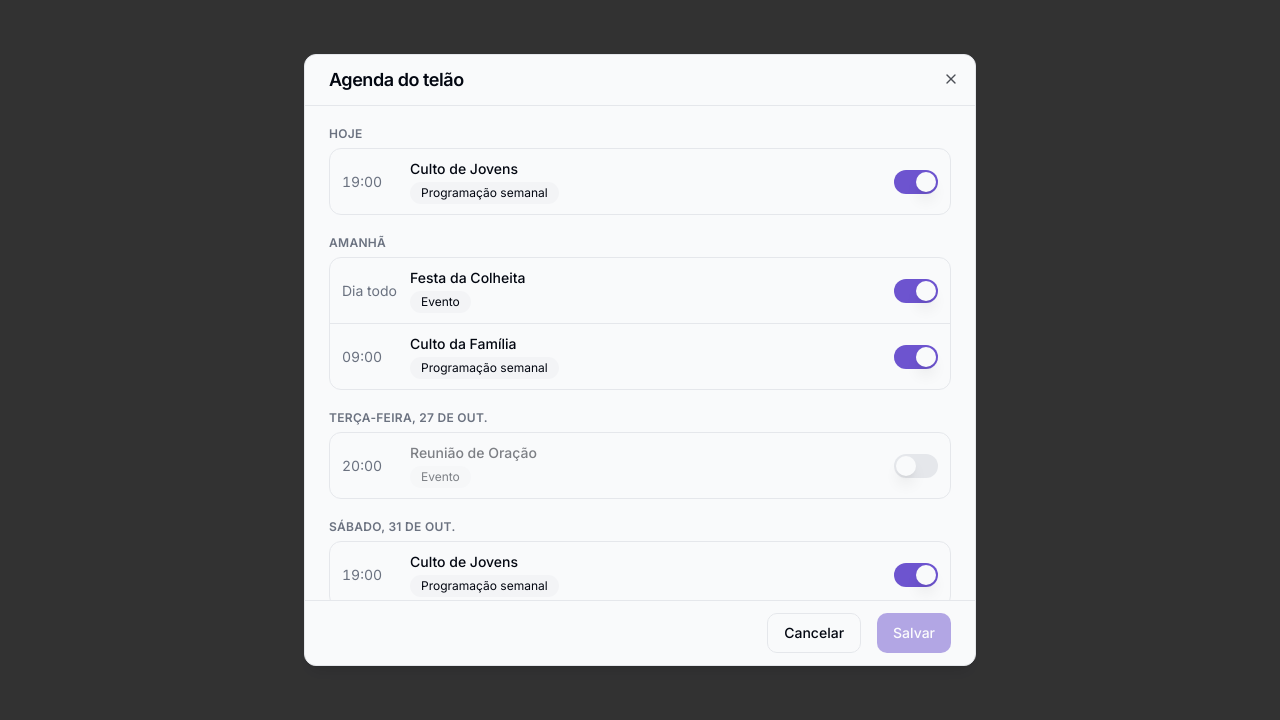
Test: ProjectionAgendaSheet › desligar um horário semanal desliga todas as semanas dele
Click the switch named "Culto de Jovens": [916, 182] box [894,170,938,194]
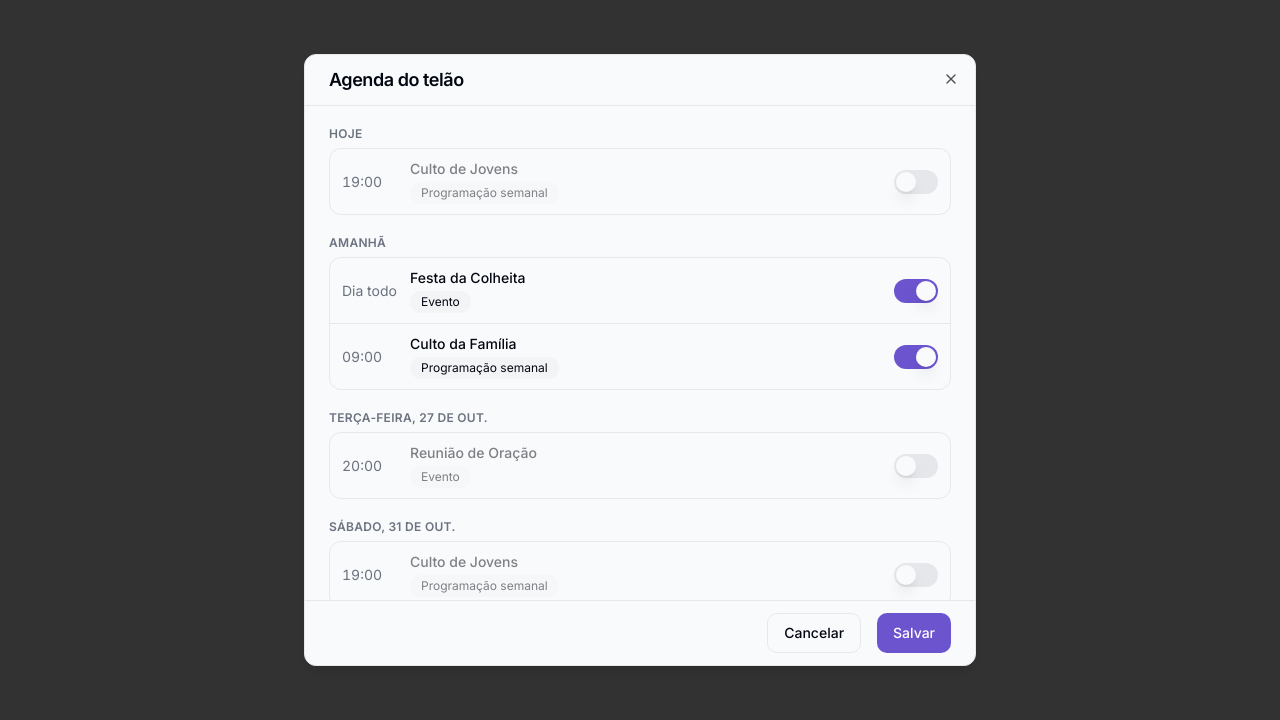
expect the switch named "Culto de Jovens" is not checked: met, box [894,170,938,194]
